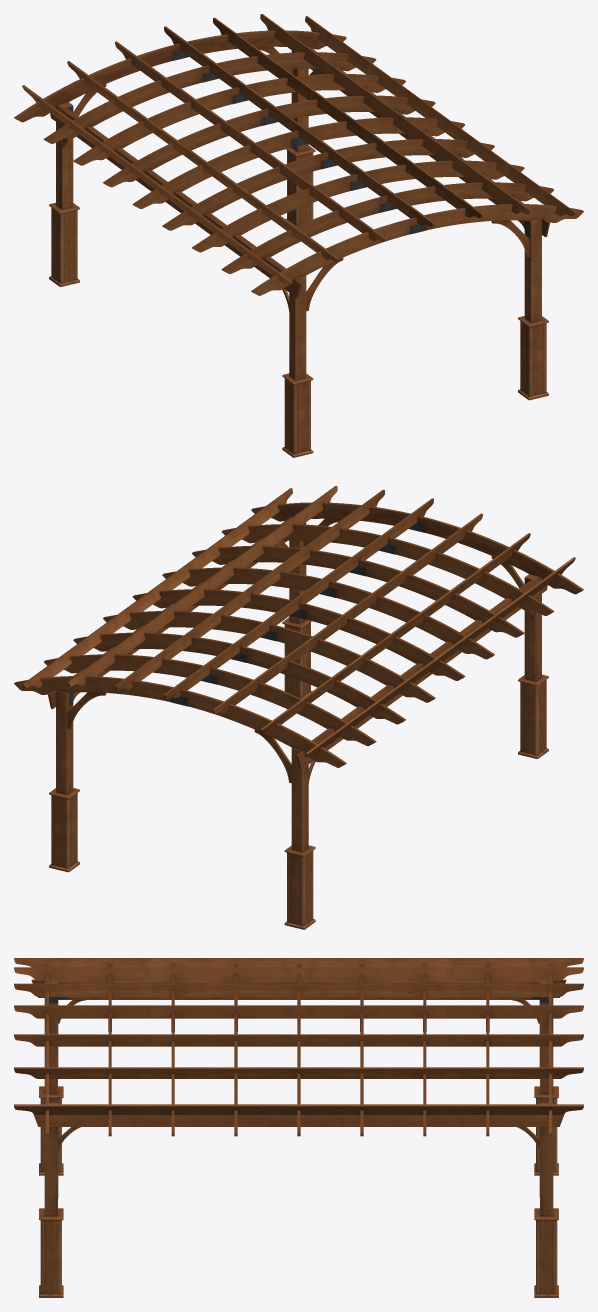
Rendered from GardenPergola01_1.FBX.
The picture shows the model from 3 angles, top to bottom: view 1: azimuth 30°, elevation 25°; view 2: azimuth 150°, elevation 25°; view 3: azimuth 270°, elevation 25°; orthographic projection. The views are drawn at different scales.
Parts seen in each view (by area): view 1: GardenPergola01_1; view 2: GardenPergola01_1; view 3: GardenPergola01_1.
Part boxes in pixels (x1=…): GardenPergola01_1: x1=14, y1=14, x2=583, y2=457; GardenPergola01_1: x1=14, y1=486, x2=583, y2=929; GardenPergola01_1: x1=14, y1=958, x2=583, y2=1297.
Size of what is drawn, in the model's own units: 5.17 by 3.17 by 7.25.
